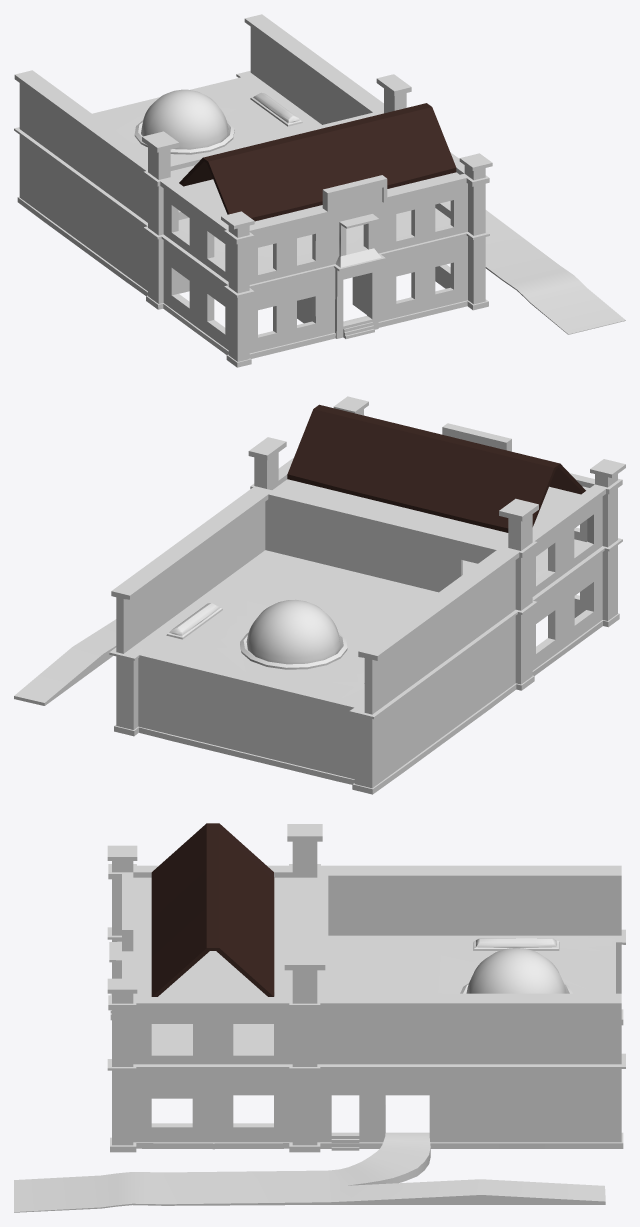
3 views of the same model, one above another, from view 1: azimuth 30°, elevation 25°; view 2: azimuth 150°, elevation 25°; view 3: azimuth 270°, elevation 25° (orthographic). The views are drawn at different scales.
Parts seen in each view (by area): view 1: LibraryMain; view 2: LibraryMain; view 3: LibraryMain.
Part boxes in pixels (bbox=[...]): LibraryMain: bbox=[14, 14, 625, 367]; LibraryMain: bbox=[14, 396, 625, 794]; LibraryMain: bbox=[14, 823, 625, 1212].
Bounding box in the file's own units: 11748 × 5718 × 15549.
